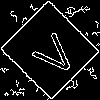V: (25, 25, 81, 81)
